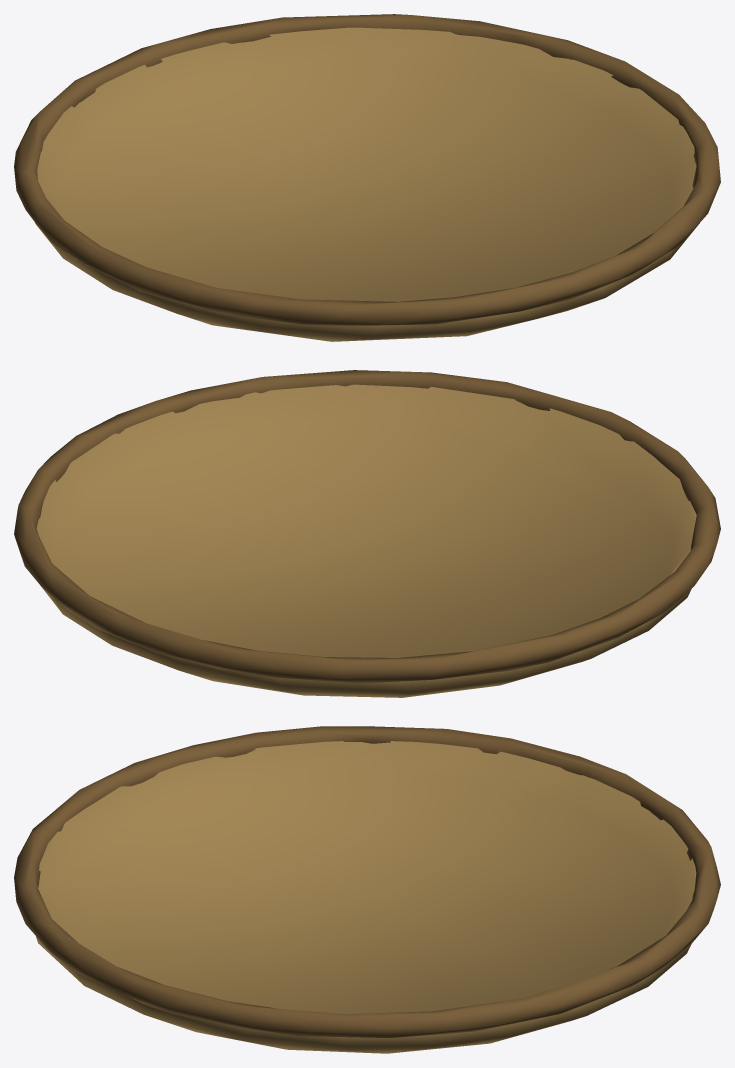
File: met_tre.glb
3 views of the same model, one above another, from view 1: azimuth 30°, elevation 25°; view 2: azimuth 150°, elevation 25°; view 3: azimuth 270°, elevation 25° (orthographic).
Parts seen in each view (by area): view 1: met_tre; view 2: met_tre; view 3: met_tre.
Part boxes in pixels (box(x1,y1,x2,y2)): met_tre: box(14, 14, 720, 341); met_tre: box(14, 370, 720, 697); met_tre: box(14, 726, 720, 1053).
Bounding box in the file's own units: 0.4594 × 0.0381 × 0.4604.
